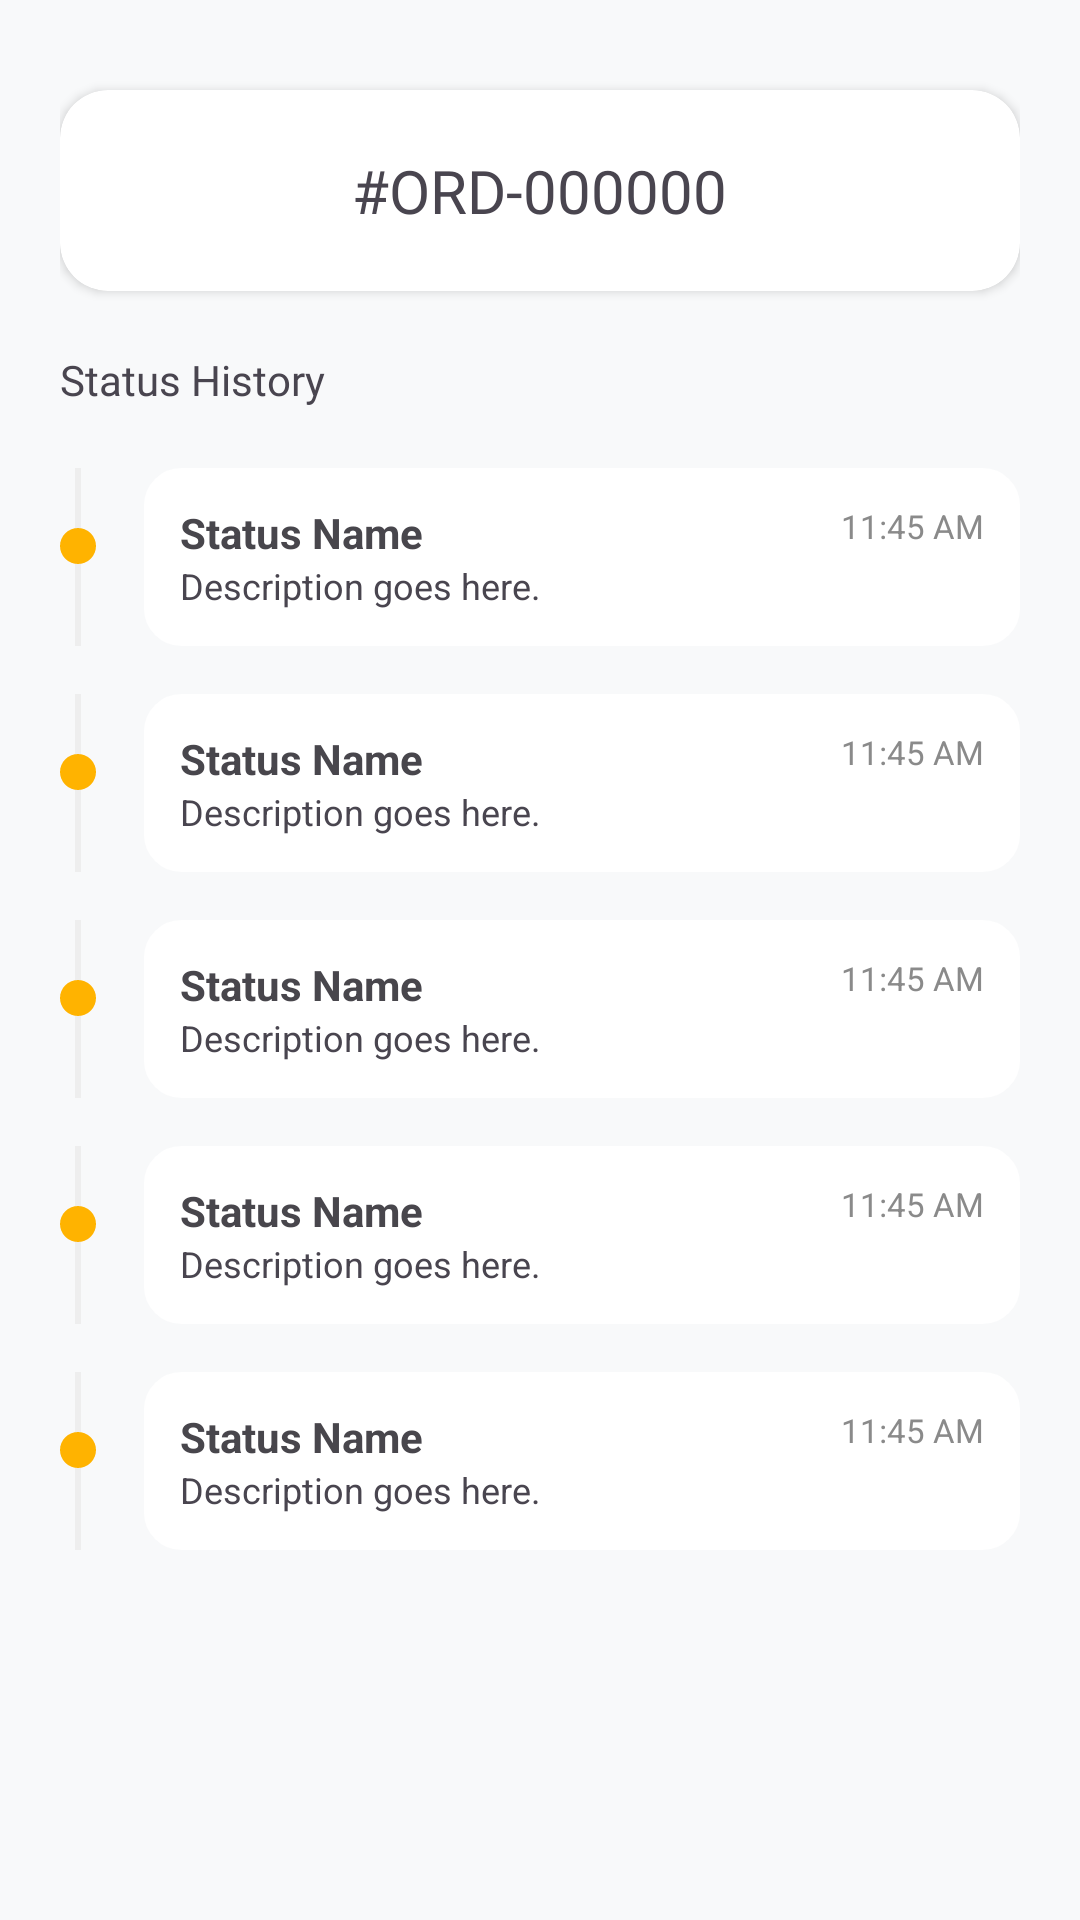

Icon click points for this 1080x1920 phone screenshot, format (x=x, y=y):
timeline dot: (x=78, y=546), (x=78, y=772), (x=78, y=998), (x=78, y=1224), (x=78, y=1450)
